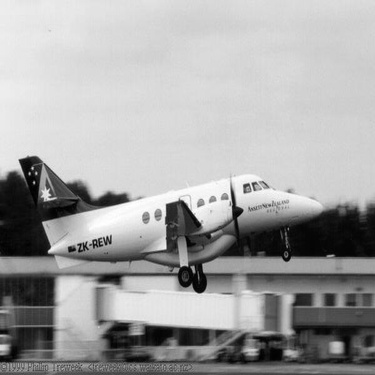airplane: (15, 123, 356, 289)
